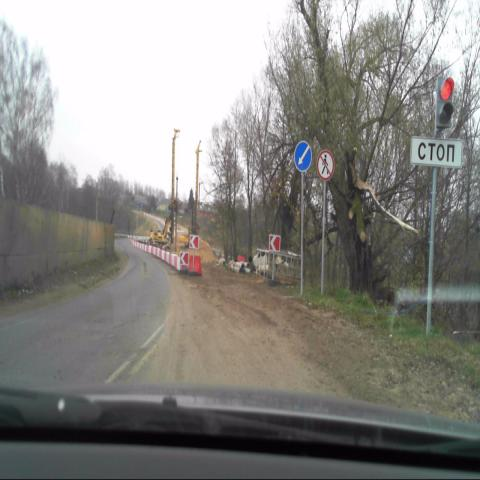3_10: (318, 150, 334, 181)
6_16: (410, 137, 462, 167)
